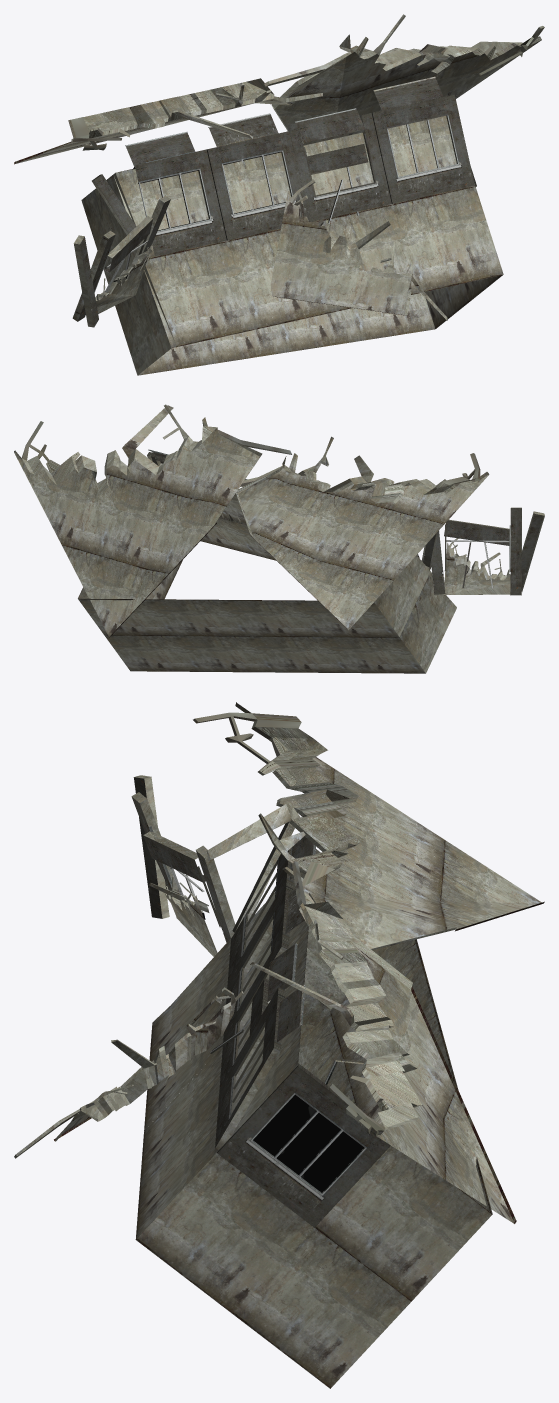
File: Ruin_Collapsed_03.fbx
3 views of the same model, one above another, from view 1: azimuth 30°, elevation 25°; view 2: azimuth 150°, elevation 25°; view 3: azimuth 270°, elevation 25° (orthographic). The views are drawn at different scales.
Parts seen in each view (by area): view 1: Ruin_Collapsed_03_Part1_plasterwall021a, Ruin_Collapsed_03_Part0_CollapsedBuilding02a; view 2: Ruin_Collapsed_03_Part1_plasterwall021a, Ruin_Collapsed_03_Part0_CollapsedBuilding02a; view 3: Ruin_Collapsed_03_Part1_plasterwall021a, Ruin_Collapsed_03_Part0_CollapsedBuilding02a.
Boxes of the visible parts, x1,y1,x2,y2 form: Ruin_Collapsed_03_Part1_plasterwall021a: (14,14,544,375); Ruin_Collapsed_03_Part0_CollapsedBuilding02a: (78,78,476,327); Ruin_Collapsed_03_Part1_plasterwall021a: (14,404,544,673); Ruin_Collapsed_03_Part0_CollapsedBuilding02a: (147,449,543,595); Ruin_Collapsed_03_Part1_plasterwall021a: (14,702,544,1388); Ruin_Collapsed_03_Part0_CollapsedBuilding02a: (132,777,390,1227).
Size of the model in its own units: 3.57 by 2.01 by 2.18.
